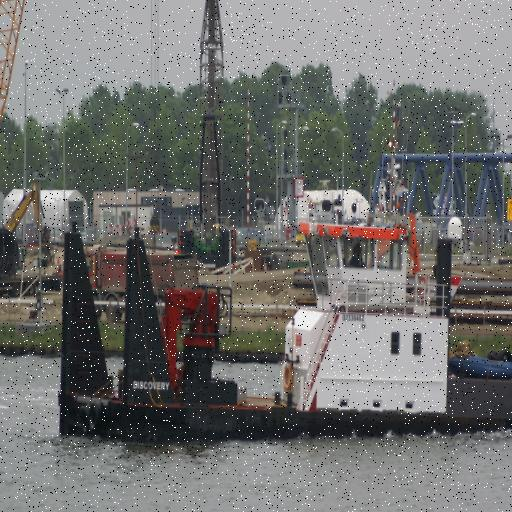tugboat: (60, 189, 512, 459)
